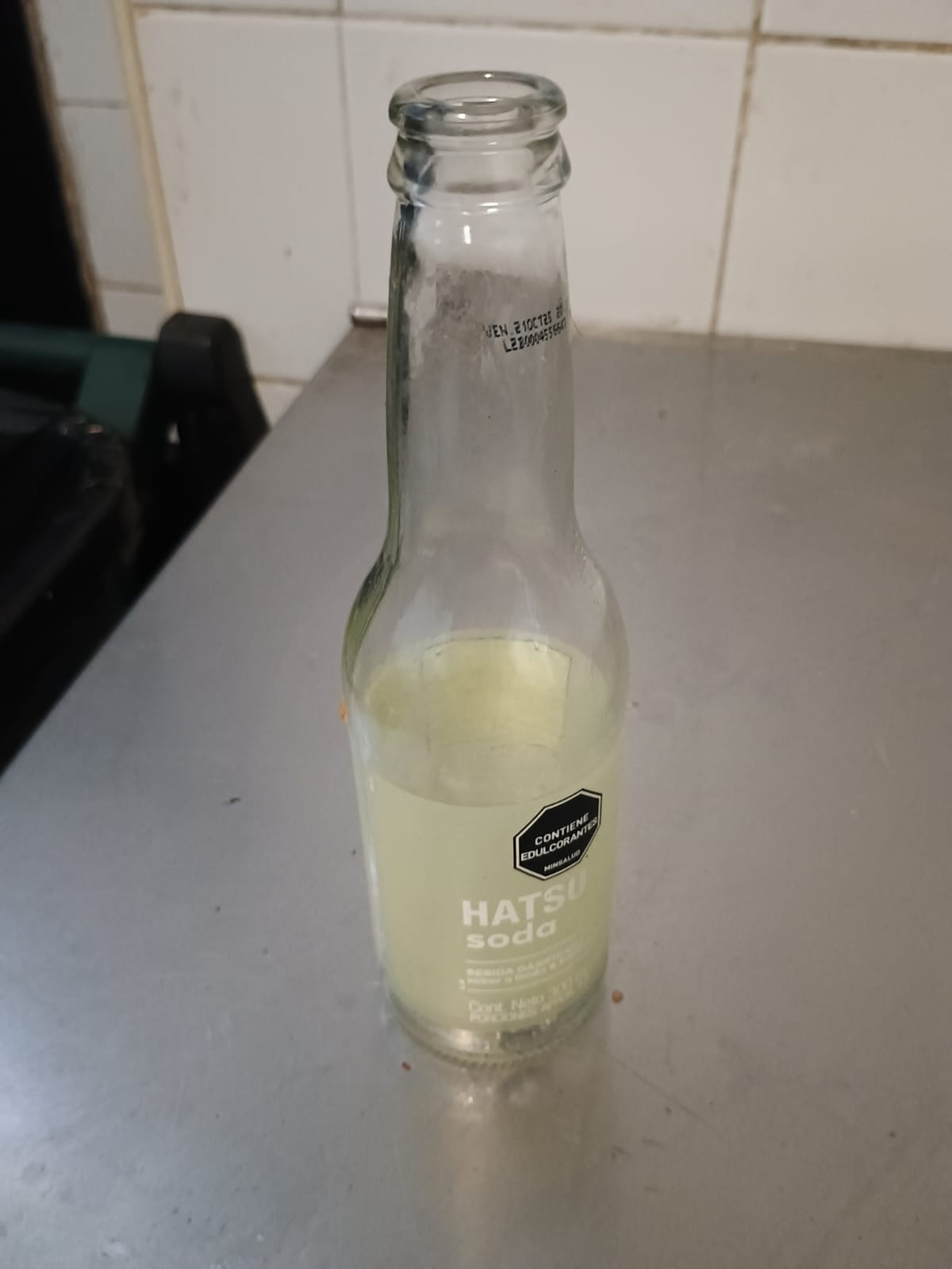Vidrio: (342, 69, 630, 1073)
